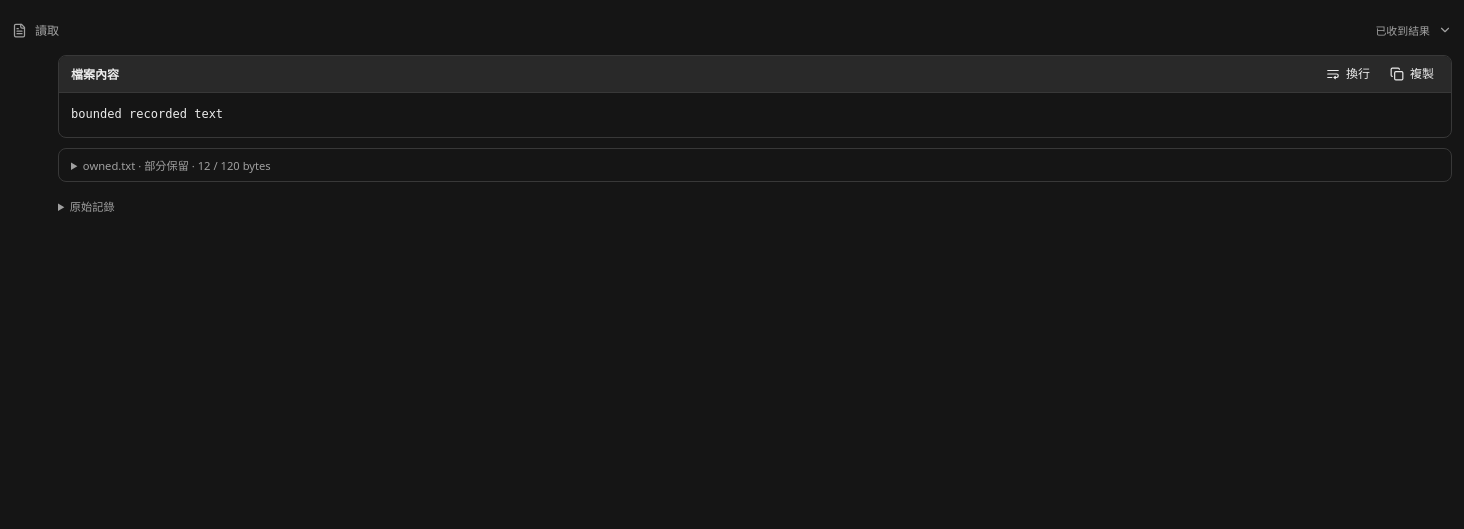
Test: shows persisted retained-result identity and completeness without inventing a read capability
Click the text "owned.txt" at (109, 165), box left=83, top=158, right=135, bottom=173
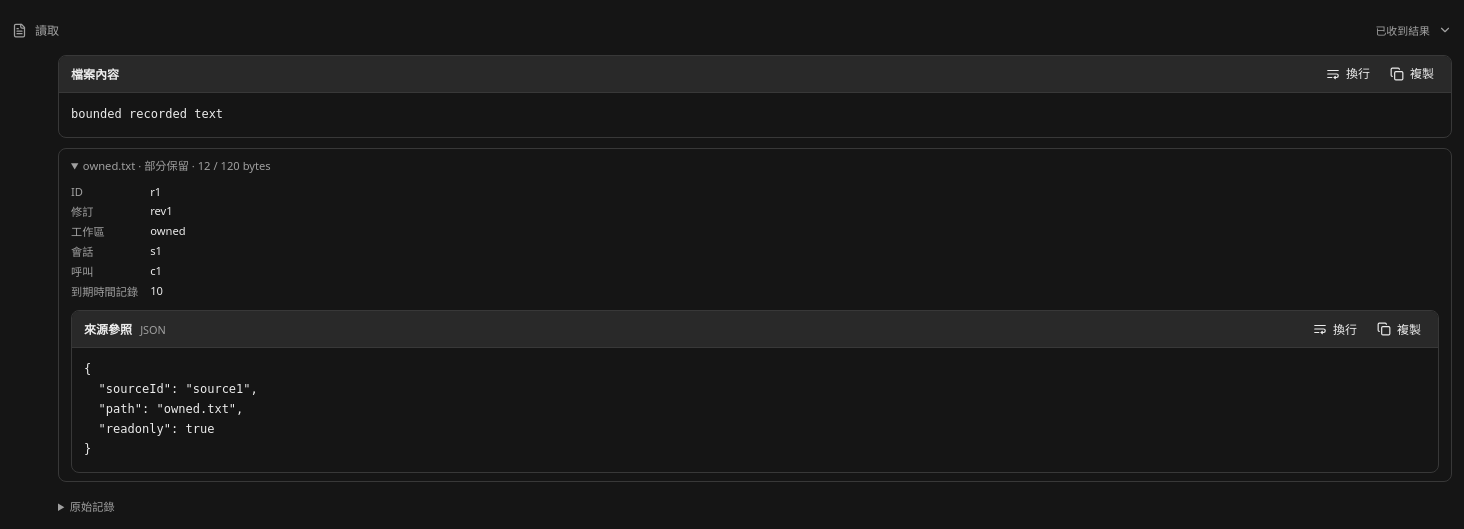
Expected: the text "部分保留 · 12 / 120 bytes" is shown, left=144, top=158, right=271, bottom=173
Result: the text "r1" is shown at left=150, top=184, right=161, bottom=199
Result: the text "rev1" is shown at left=150, top=203, right=173, bottom=218
